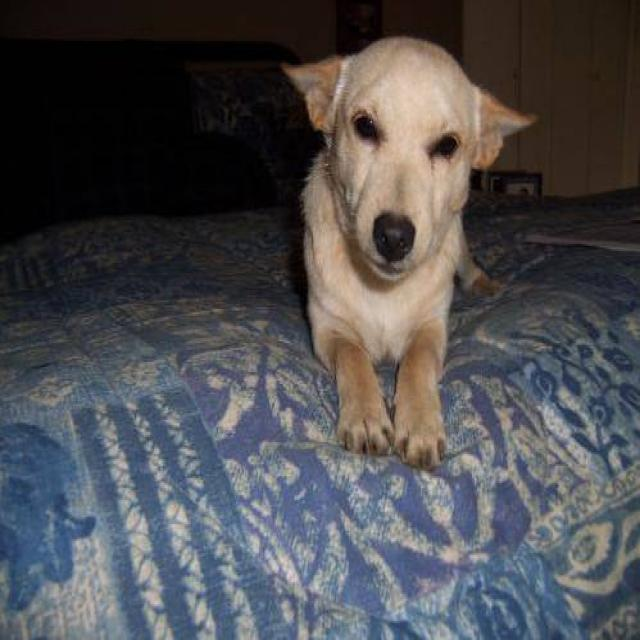dog: (278, 32, 538, 471)
